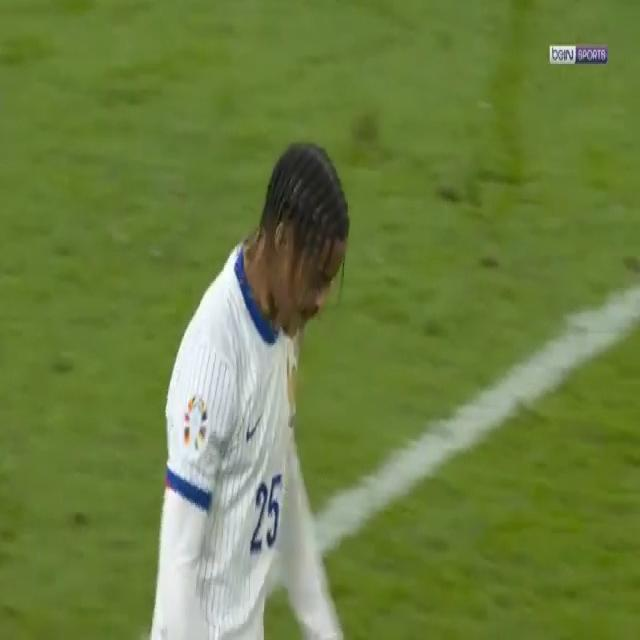joueur: (153, 102, 389, 640)
